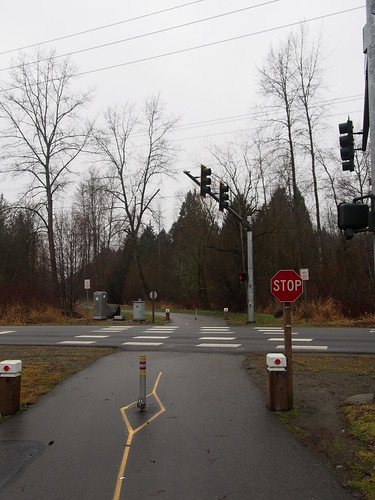sign: (271, 267, 305, 301)
sky: (1, 1, 347, 119)
street: (2, 315, 366, 356)
tree: (1, 51, 84, 306), (255, 42, 329, 325), (84, 92, 168, 321)
